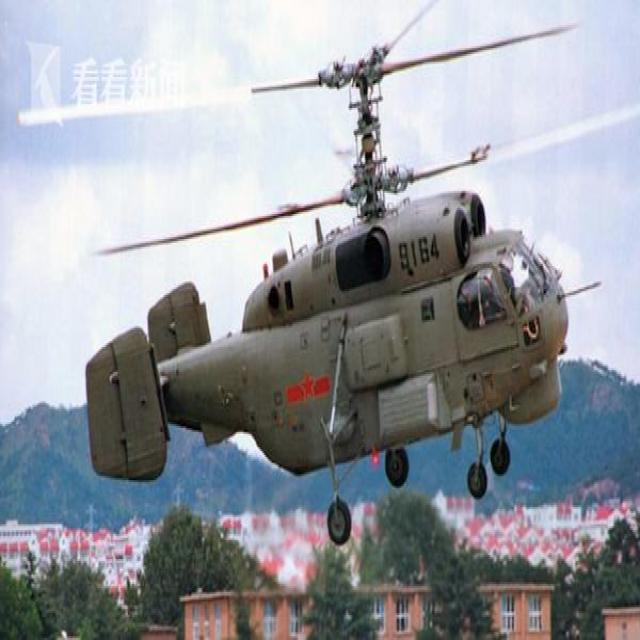MIL_HELO: (65, 37, 637, 510)
